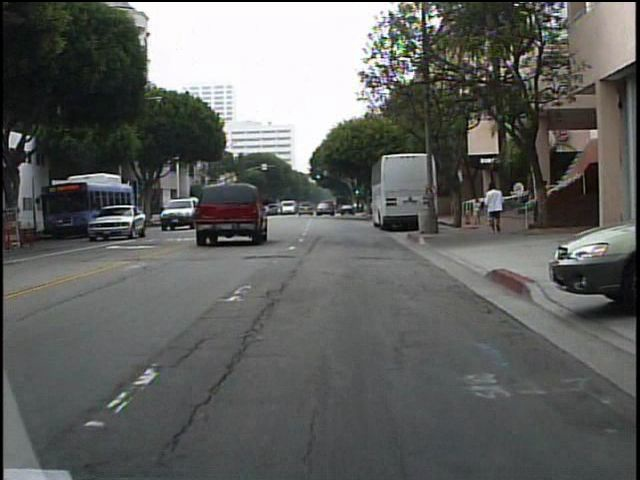person: (485, 181, 510, 237), (470, 195, 483, 228)
